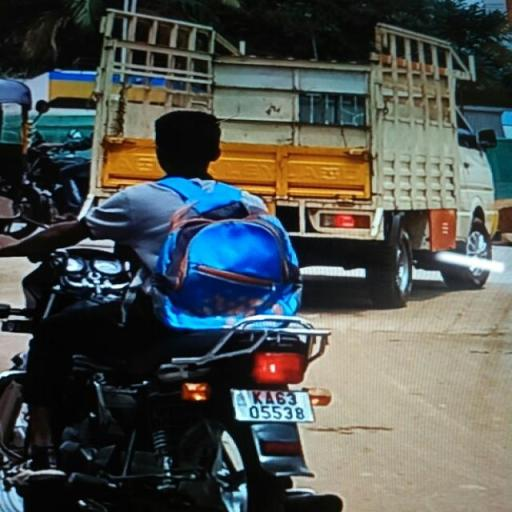bike: (2, 104, 357, 512)
numberplate: (235, 390, 315, 422)
withouthelmet: (157, 111, 220, 172)
